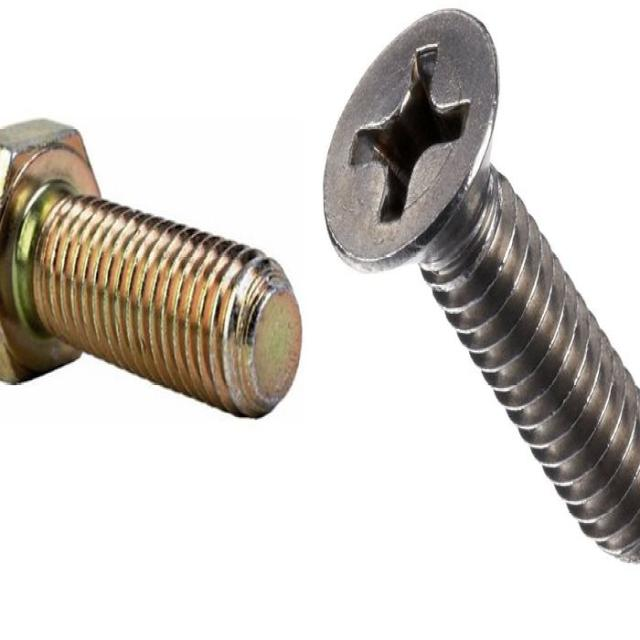Logam: (317, 10, 640, 582), (3, 82, 302, 485)
